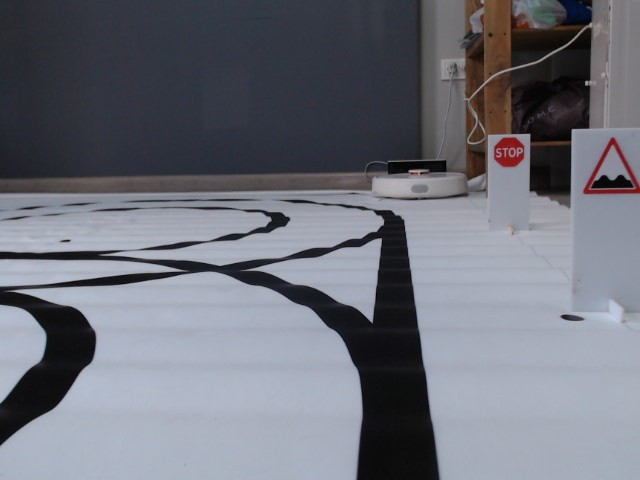Nerov: (583, 137, 639, 198)
Stop: (493, 137, 524, 167)
